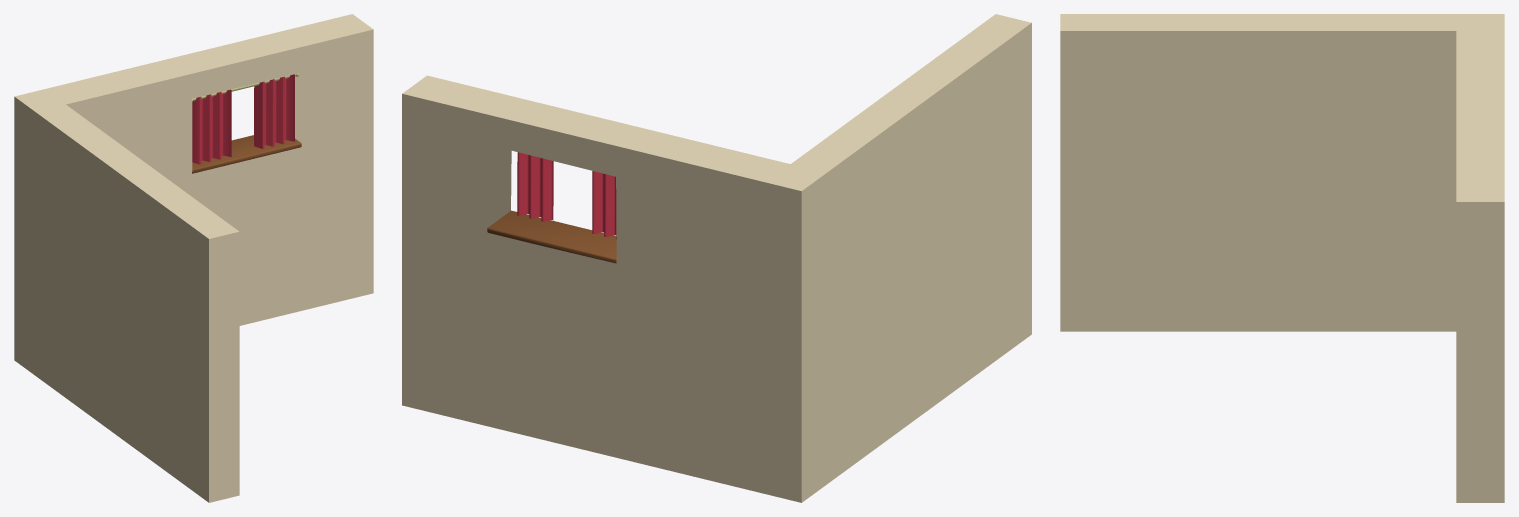
The model's file is paredCortina.fbx.
3 renders of one model, left to right at view 1: azimuth 30°, elevation 25°; view 2: azimuth 150°, elevation 25°; view 3: azimuth 270°, elevation 25°, orthographic. The views are drawn at different scales.
Parts seen in each view (by area): view 1: paredCortina; view 2: paredCortina; view 3: paredCortina.
Boxes of the visible parts, box(x1,y1,x2,y2) form: paredCortina: box(14, 14, 373, 502); paredCortina: box(402, 14, 1031, 502); paredCortina: box(1060, 14, 1504, 502).
Bounding box in the file's own units: 495 × 369 × 493.
